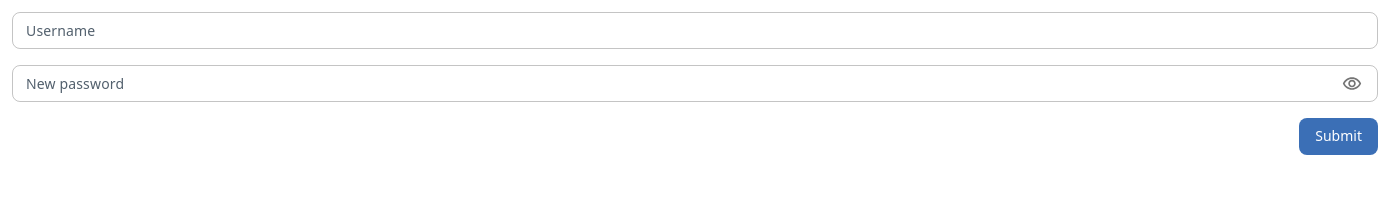
Test: AppForm › maps server fieldErrors onto the matching Formik fields
Type "admin" into the field labelled "Username" at (695, 31), box [12,12,1378,49]
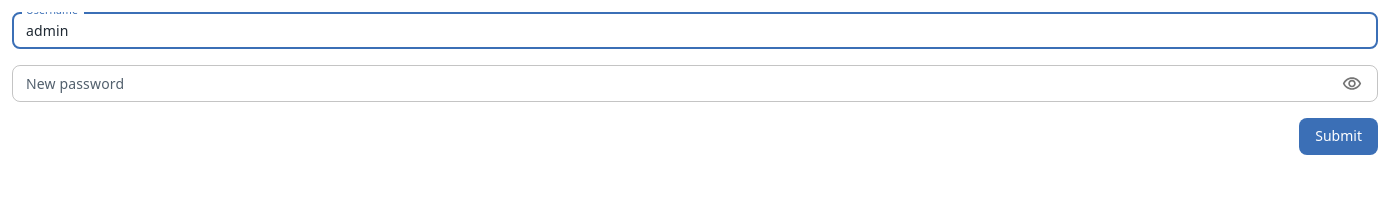
Type "weak" into the password field labelled "New password" at (670, 84), box [12,65,1329,102]
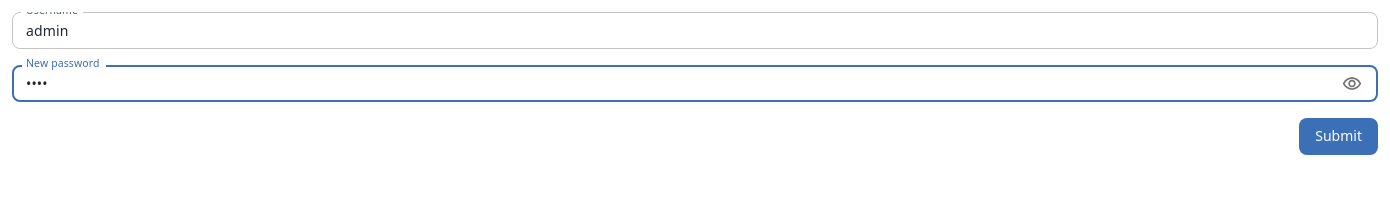
Click the button "Submit" at (1339, 137), box [1299,118,1378,155]
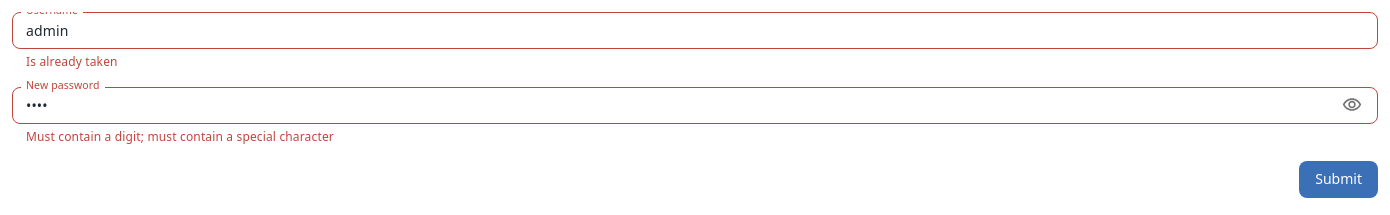
expect the text "Must contain a digit; must contain a special character" is shown: met, box [26,128,334,145]
expect the text "Is already taken" is shown: met, box [26,53,118,70]
